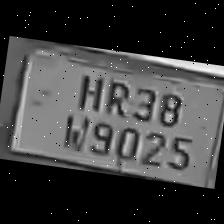0: (112, 120, 142, 163)
2: (138, 124, 168, 168)
3: (126, 78, 158, 122)
5: (162, 130, 194, 171)
8: (153, 86, 184, 126)
9: (83, 113, 116, 156)
H: (70, 66, 106, 113)
R: (99, 72, 132, 116)
W: (56, 106, 93, 154)
